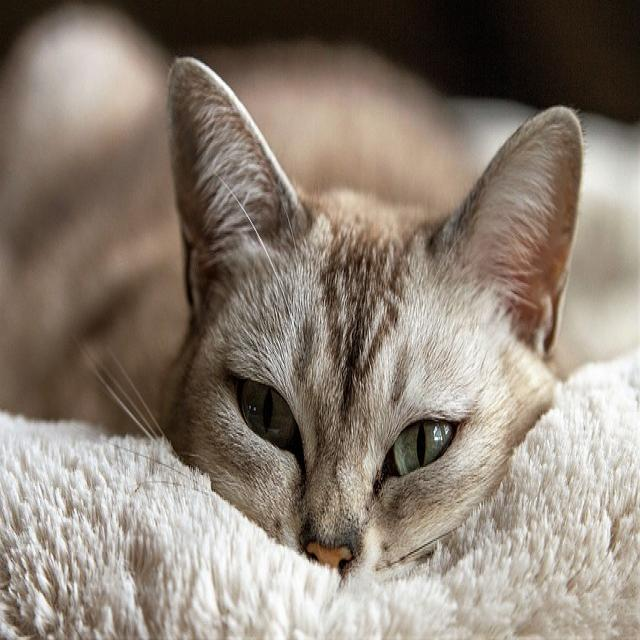cat: (78, 13, 578, 598)
